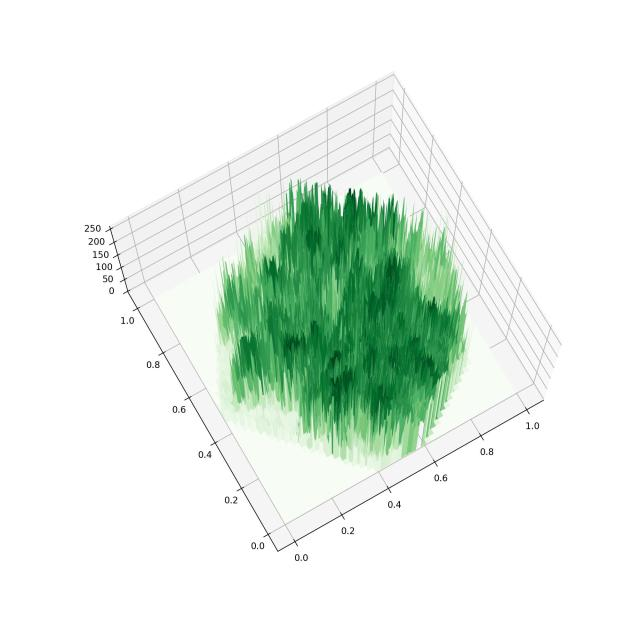trembling aspen: (42, 44, 604, 583)
